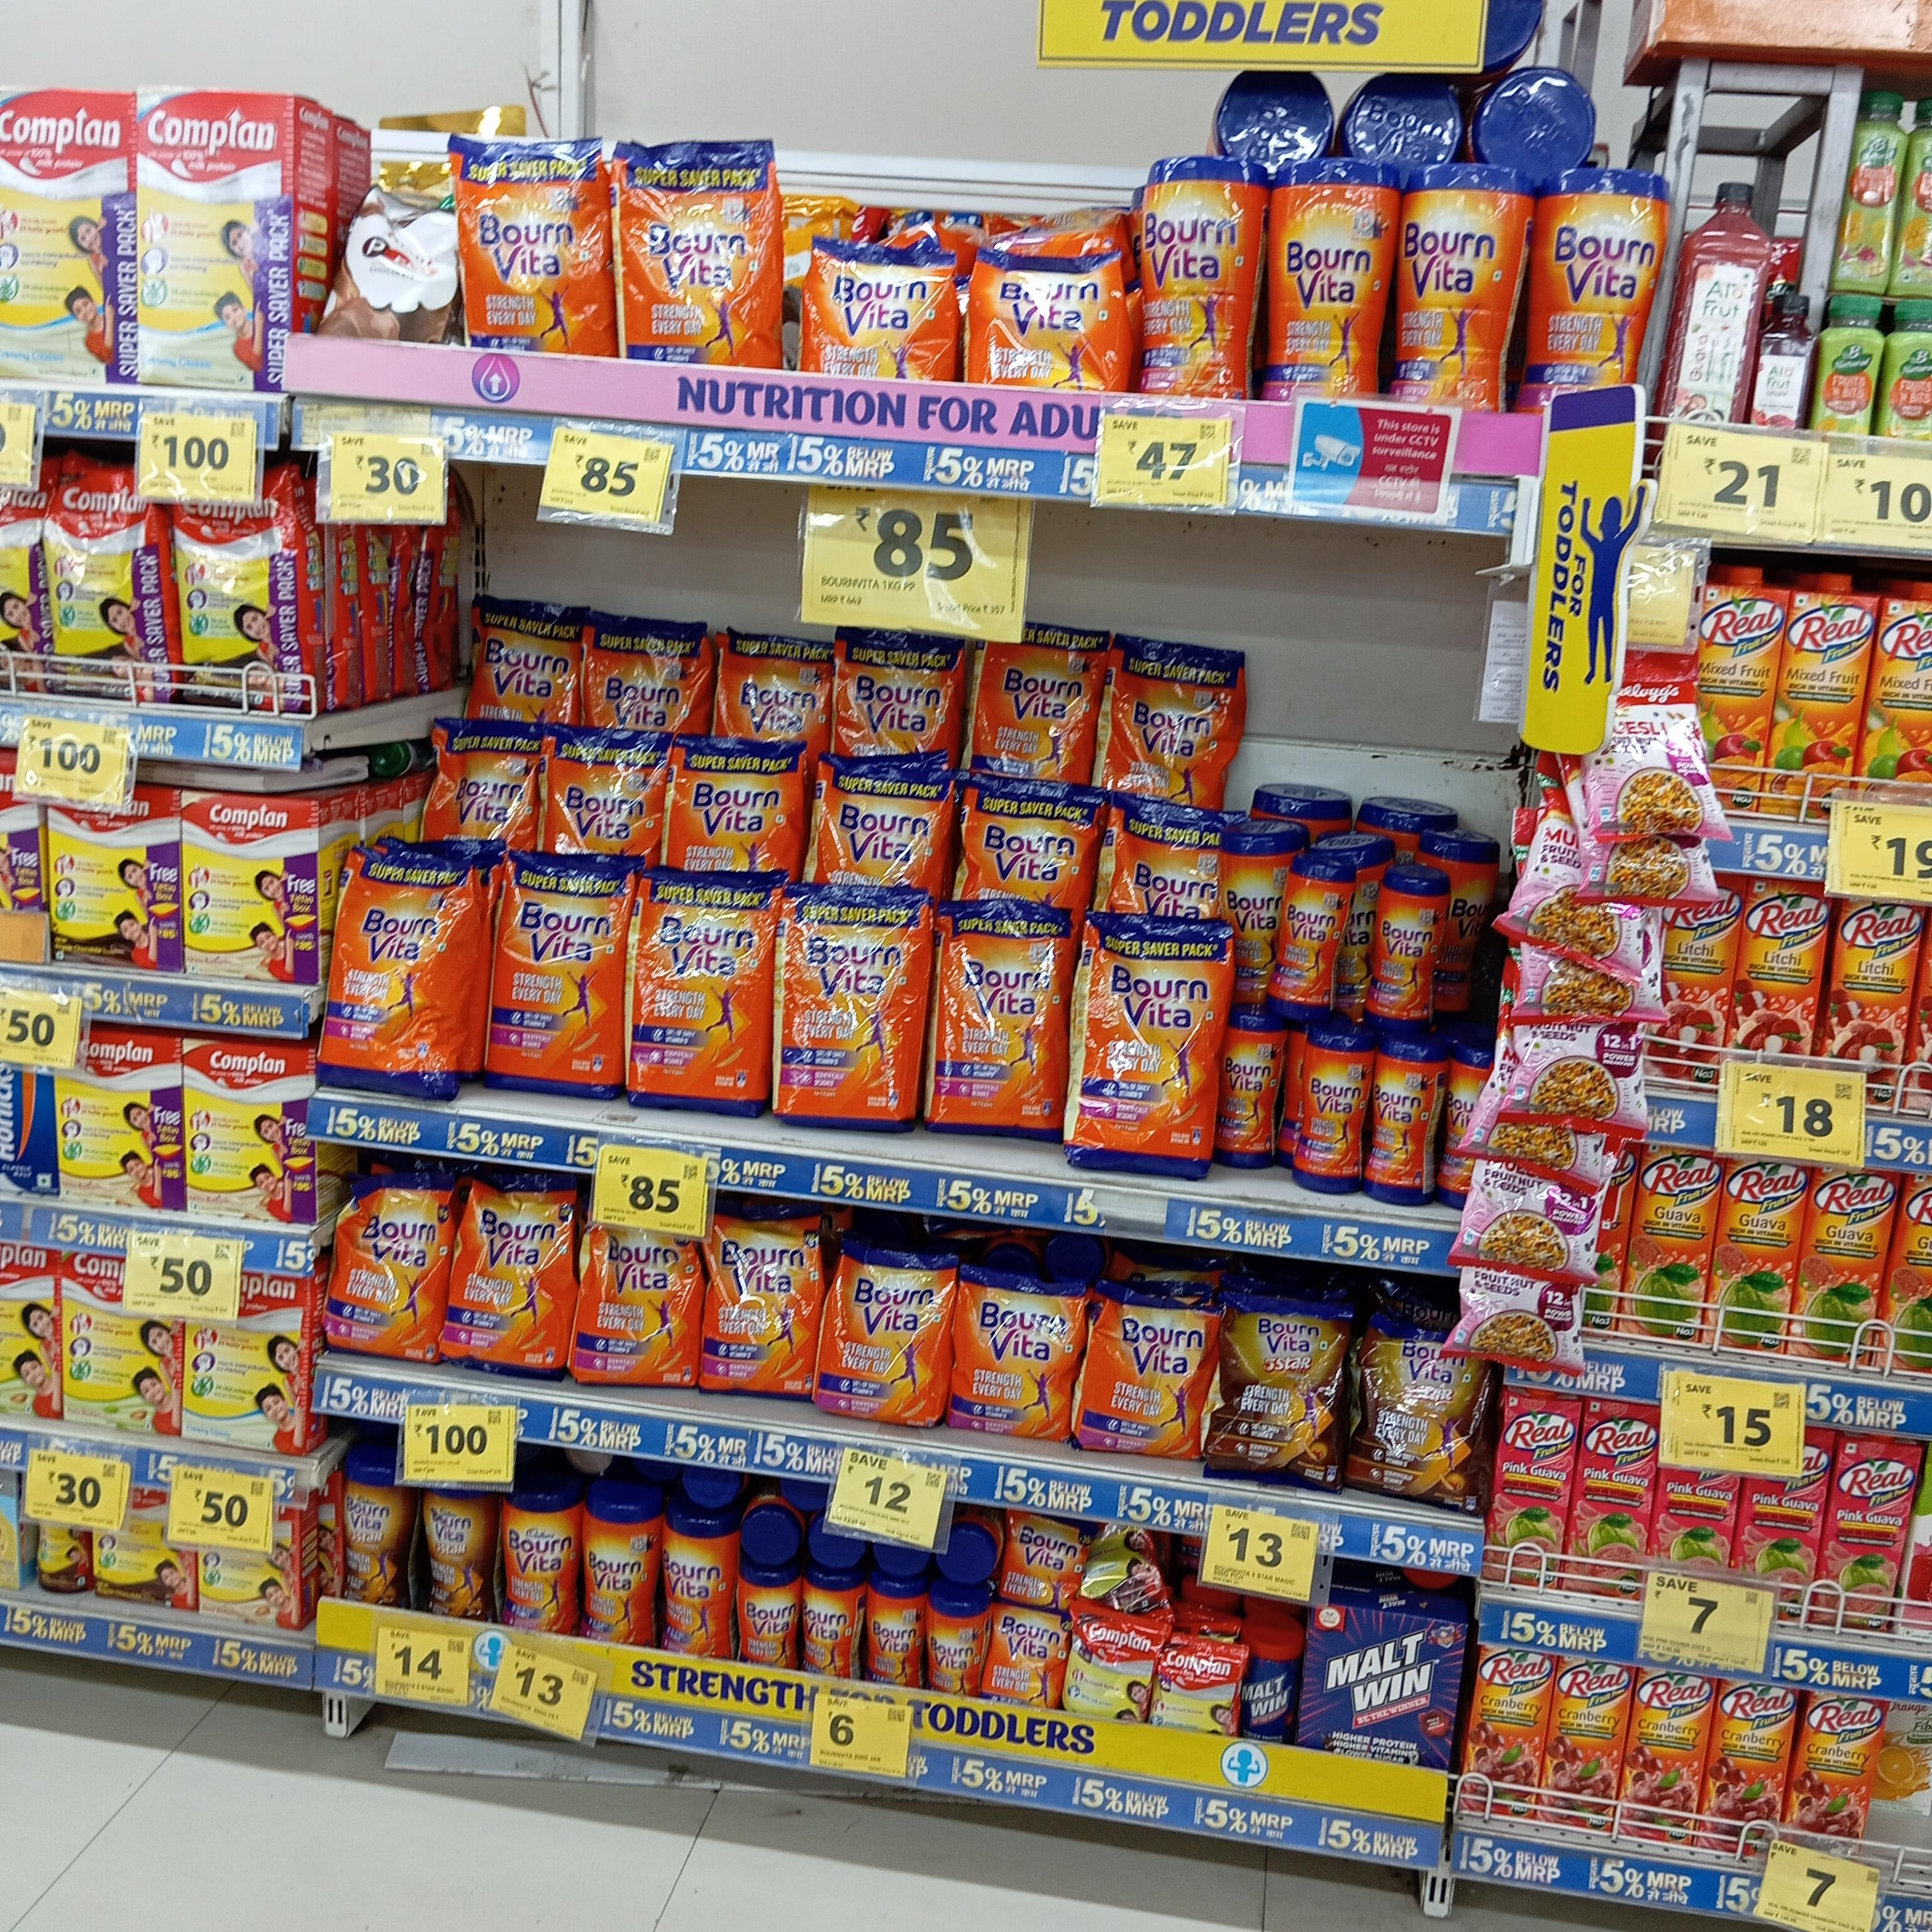BOURN_VITA_1_KG_JAR: (1536, 168, 1660, 407), (1272, 156, 1382, 400), (1403, 163, 1509, 410), (1145, 156, 1247, 395)
BOURN_VITA_1_KG_POUCH: (616, 136, 775, 366), (329, 853, 469, 1095), (784, 888, 913, 1129), (639, 874, 766, 1115), (1090, 918, 1208, 1177), (462, 142, 603, 354), (502, 860, 626, 1099), (943, 908, 1065, 1139), (1113, 637, 1228, 794), (985, 619, 1092, 777), (840, 630, 961, 754)
BOURN_VITA_200_G_JAR: (740, 1566, 798, 1667), (927, 1594, 982, 1700), (869, 1578, 924, 1684), (801, 1573, 849, 1677)
BOURN_VITA_500_G_JAR: (504, 1488, 580, 1629), (1300, 1030, 1362, 1198), (663, 1507, 729, 1665), (582, 1495, 651, 1642), (1276, 858, 1338, 1021), (1373, 874, 1437, 1031), (1369, 1037, 1424, 1205), (1223, 1016, 1277, 1168)
BOURN_VITA_500_G_POUCH: (830, 1249, 950, 1428), (809, 237, 948, 382), (977, 253, 1118, 387), (961, 1274, 1076, 1431), (1097, 1292, 1203, 1458)
BOURN_VITA_750_G_POUCH: (455, 1180, 570, 1376), (709, 1201, 817, 1398), (334, 1185, 448, 1361), (584, 1224, 697, 1387)
BOURN_VITA_75_G_POUCH: (991, 1606, 1062, 1707), (1008, 1511, 1079, 1606)
BOURN_VITA_FIVE_STAR_MAGIC_500_G_JAR: (423, 1484, 492, 1621), (341, 1461, 403, 1603)
BOURN_VITA_FIVE_STAR_MAGIC_500_G_POUCH: (1226, 1297, 1345, 1488), (1364, 1320, 1477, 1511)
COMPLAN_CHOCOLATE_500_GMS_PACK: (46, 800, 179, 970)
COMPLAN_CREAMY_CLASSIC_500_G_PACK: (188, 1277, 301, 1449)
COMPLAN_KESAR_BADAM_500_GMS_PACK: (186, 793, 315, 980), (186, 1044, 311, 1223), (57, 1035, 180, 1207)
COMPLAN_PISTA_BADAM_500_GMS_PACK: (62, 1253, 179, 1428)
COMPLAN_RC_POUCH_700_GMS_12: (44, 464, 165, 699), (180, 502, 301, 708)
